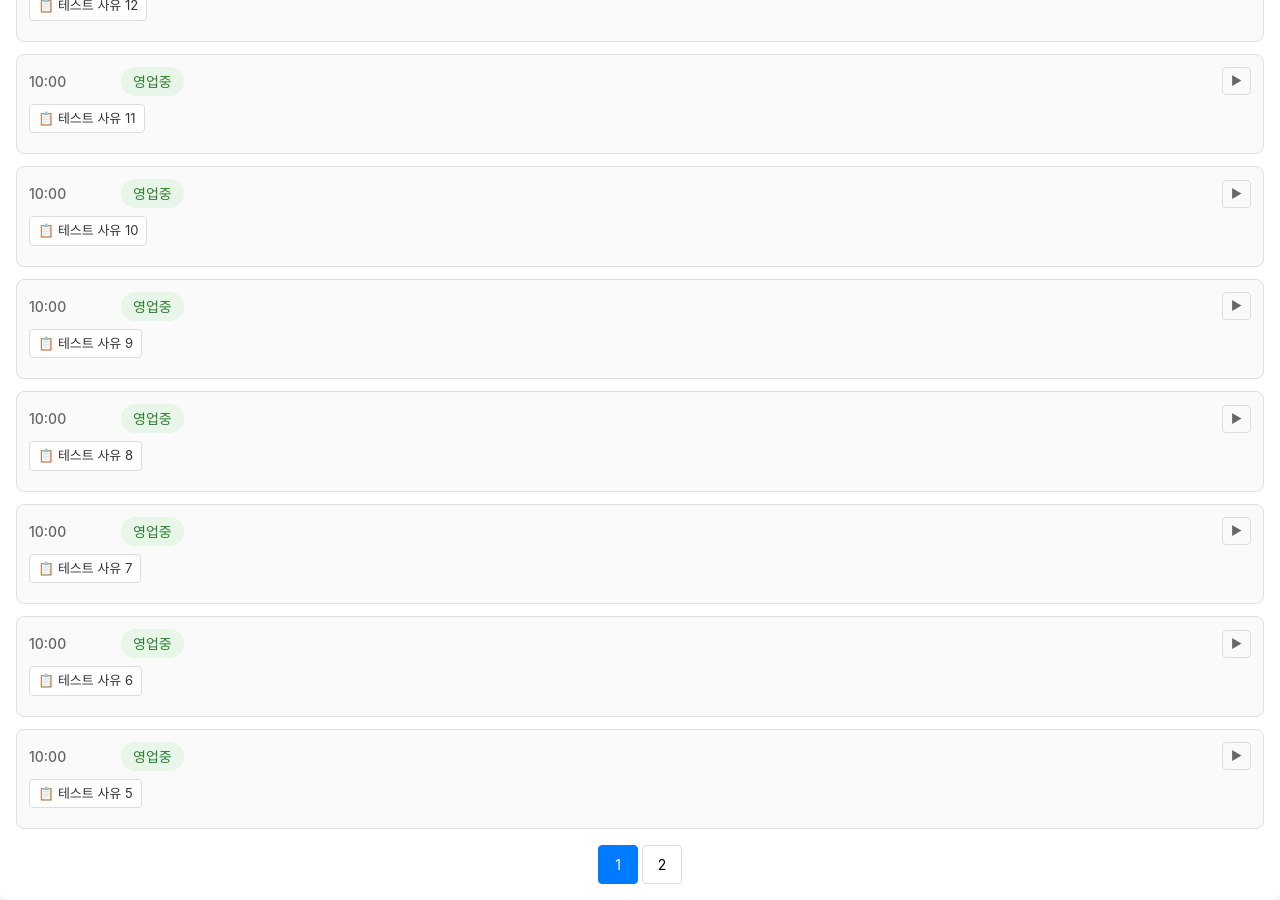
it: PosStatusHistory › handles pagination correctly
(page scrolled)
Click the button "2" at (662, 864), box top-left (642, 845), bottom-right (682, 884)
(page scrolled)
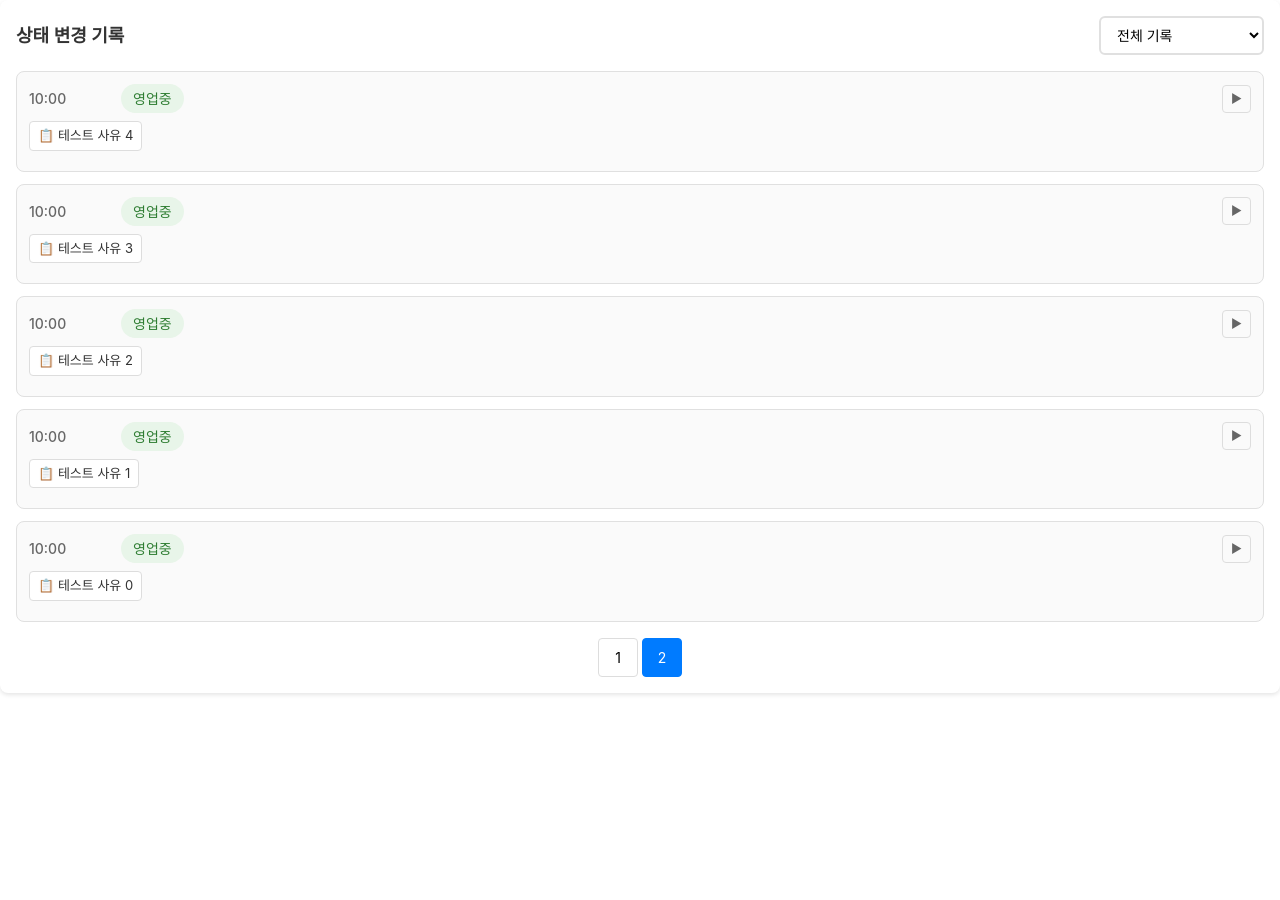
Check: the number of list items is 5, box top-left (16, 71), bottom-right (1264, 172); top-left (16, 184), bottom-right (1264, 284); top-left (16, 296), bottom-right (1264, 396); top-left (16, 408), bottom-right (1264, 509); top-left (16, 521), bottom-right (1264, 622)
